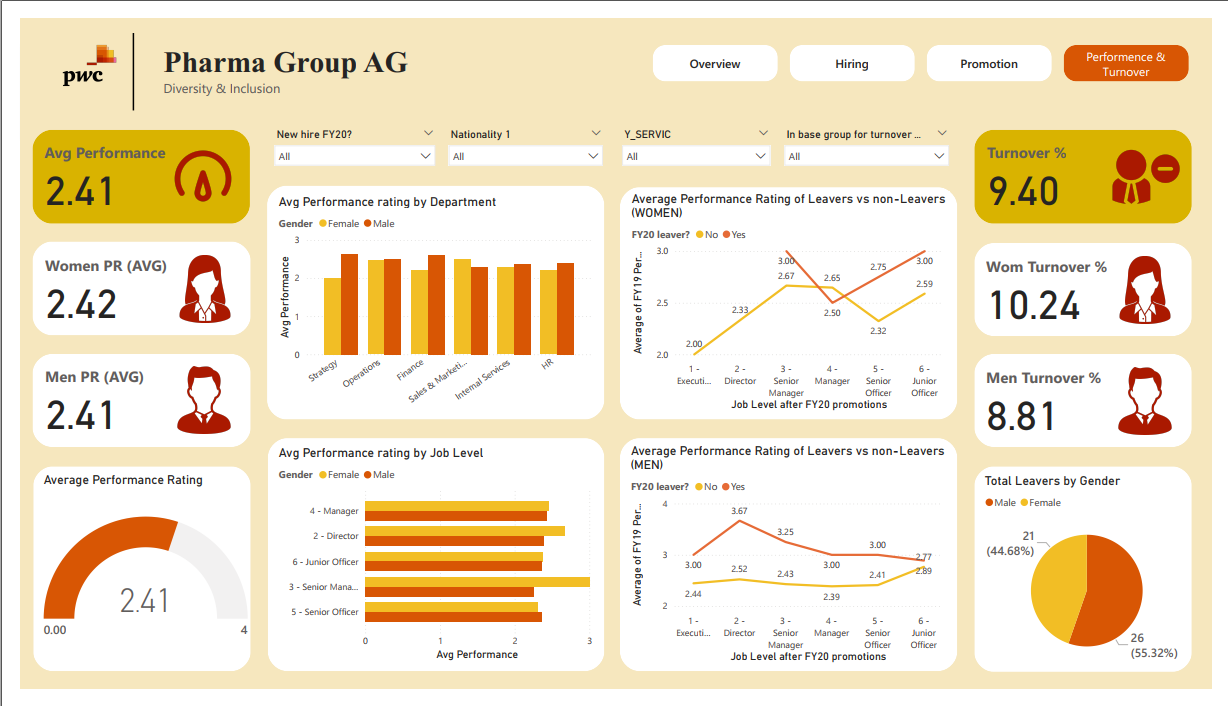

This screenshot's page, from the dashboard's own definition file:
{"tool":"powerbi","page":{"name":"Performence & Turnover","canvas":[1600,900],"ordinal":3},"visuals":[{"type":"shape","box":[1281.7,601.3,292.4,275.9],"z":0},{"type":"shape","box":[17.7,601.3,292.4,274.7],"z":1000},{"type":"shape","box":[805.8,563,453.2,313.3],"z":2000},{"type":"shape","box":[332.5,224.4,452.3,313.7],"z":3000},{"type":"shape","box":[332.9,563,452,313.3],"z":4000},{"type":"shape","box":[805.9,225.6,453.5,312.5],"z":5000},{"type":"image","box":[33.8,8.8,120,106.2],"z":6000},{"type":"textbox","title":"Pharma Group AG","box":[188.4,34.9,345.3,70.9],"z":7000},{"type":"shape","box":[102.3,18.6,101.2,104.7],"z":8000},{"type":"pieChart","title":"Total Leavers by Gender","fields":{"Category":["Pharma Group AG.Gender"],"Y":["_Measures Table.Total Leavers"]},"box":[1291.1,609.8,283.9,268],"z":9000},{"type":"shape","box":[17.4,450.2,292.4,125.3],"z":10000},{"type":"shape","box":[17.4,299.3,292.4,125.3],"z":11000},{"type":"shape","box":[17.4,148.5,292,126.5],"z":12000},{"type":"shape","box":[1282.1,450.2,292.4,125.3],"z":13000},{"type":"shape","box":[1282.1,300.5,292.4,125.3],"z":14000},{"type":"shape","box":[1282.1,148.5,292.4,126.5],"z":15000},{"type":"cardVisual","fields":{"Data":["_Measures Table.Turnover Female %"]},"box":[1280.9,300.9,293,124.9],"z":16000},{"type":"cardVisual","fields":{"Data":["_Measures Table.Turnover Men %"]},"box":[1280.9,449.7,293,126],"z":17000},{"type":"cardVisual","fields":{"Data":["_Measures Table.Turnover %"]},"box":[1281.6,148,292.5,126.9],"z":18000},{"type":"clusteredColumnChart","title":"Avg Performance rating by Department","fields":{"Category":["Pharma Group AG.Last Department in FY20"],"Y":["_Measures Table.Avg Performance"],"Series":["Pharma Group AG.Gender"]},"box":[343,234.9,431.1,293.7],"z":19000},{"type":"slicer","fields":{"Values":["Pharma Group AG.New hire FY20?"]},"box":[332.3,142,235.8,69.7],"z":20000},{"type":"cardVisual","fields":{"Data":["_Measures Table.Avg Performance Female"]},"box":[17,299.8,294.1,124.9],"z":21000},{"type":"cardVisual","fields":{"Data":["_Measures Table.Avg Performance Male"]},"box":[16.8,449.5,293,126],"z":22000},{"type":"cardVisual","fields":{"Data":["_Measures Table.Avg Performance"]},"box":[16.4,148,292.5,125.7],"z":23000},{"type":"gauge","title":"Average Performance Rating","fields":{"Y":["_Measures Table.Avg Performance"],"MaxValue":["Max(Pharma Group AG.FY20 Performance Rating)"]},"box":[27.3,608.7,283.9,268],"z":24000},{"type":"slicer","fields":{"Values":["Pharma Group AG.Nationality 1"]},"box":[565.8,142.1,226.7,69.3],"z":25000},{"type":"slicer","fields":{"Values":["Backing 1.Y_SERVIC"]},"box":[799.2,142.1,218.5,69.3],"z":26000},{"type":"pageNavigator","box":[849.6,34.8,723.6,49.6],"z":27000},{"type":"slicer","fields":{"Values":["Pharma Group AG.In base group for turnover FY20"]},"box":[1017.1,142,241.2,69.7],"z":28000},{"type":"clusteredBarChart","title":"Avg Performance rating by Job Level","fields":{"Category":["Pharma Group AG.Job Level group for PRA"],"Y":["_Measures Table.Avg Performance"],"Series":["Pharma Group AG.Gender"]},"box":[343,573.3,431.1,293.7],"z":29000},{"type":"lineChart","title":"Average Performance Rating of Leavers vs non-Leavers (WOMEN)","fields":{"Category":["Pharma Group AG.Job Level after FY20 promotions"],"Y":["Avg(Pharma Group AG.FY19 Performance Rating)"],"Series":["Pharma Group AG.FY20 leaver?"]},"box":[816.7,231.1,432.2,300],"z":30000},{"type":"lineChart","title":"Average Performance Rating of Leavers vs non-Leavers (MEN)","fields":{"Category":["Pharma Group AG.Job Level after FY20 promotions"],"Y":["Avg(Pharma Group AG.FY19 Performance Rating)"],"Series":["Pharma Group AG.FY20 leaver?"]},"box":[816.2,569.7,432.1,299.8],"z":31000}]}

Visuals, with their boxes in screenshot pixels (x1, y1, x2, y2), scaled from the page's 1600x900 canvas onto the 1228x706 screenshot:
shape: (984, 472, 1208, 688)
shape: (14, 472, 238, 687)
shape: (618, 442, 966, 687)
shape: (255, 176, 602, 422)
shape: (256, 442, 602, 687)
shape: (619, 177, 967, 422)
image: (26, 7, 118, 90)
"Pharma Group AG" textbox: (145, 27, 410, 83)
shape: (79, 15, 156, 97)
"Total Leavers by Gender" pieChart: (991, 478, 1209, 689)
shape: (13, 353, 238, 451)
shape: (13, 235, 238, 333)
shape: (13, 116, 237, 216)
shape: (984, 353, 1208, 451)
shape: (984, 236, 1208, 334)
shape: (984, 116, 1208, 216)
cardVisual - _Measures Table.Turnover Female %: (983, 236, 1208, 334)
cardVisual - _Measures Table.Turnover Men %: (983, 353, 1208, 452)
cardVisual - _Measures Table.Turnover %: (984, 116, 1208, 216)
"Avg Performance rating by Department" clusteredColumnChart: (263, 184, 594, 415)
slicer - Pharma Group AG.New hire FY20?: (255, 111, 436, 166)
cardVisual - _Measures Table.Avg Performance Female: (13, 235, 239, 333)
cardVisual - _Measures Table.Avg Performance Male: (13, 353, 238, 451)
cardVisual - _Measures Table.Avg Performance: (13, 116, 237, 215)
"Average Performance Rating" gauge: (21, 477, 239, 688)
slicer - Pharma Group AG.Nationality 1: (434, 111, 608, 166)
slicer - Backing 1.Y_SERVIC: (613, 111, 781, 166)
pageNavigator: (652, 27, 1207, 66)
slicer - Pharma Group AG.In base group for turnover FY20: (781, 111, 966, 166)
"Avg Performance rating by Job Level" clusteredBarChart: (263, 450, 594, 680)
"Average Performance Rating of Leavers vs non-Leavers (WOMEN)" lineChart: (627, 181, 959, 417)
"Average Performance Rating of Leavers vs non-Leavers (MEN)" lineChart: (626, 447, 958, 682)
